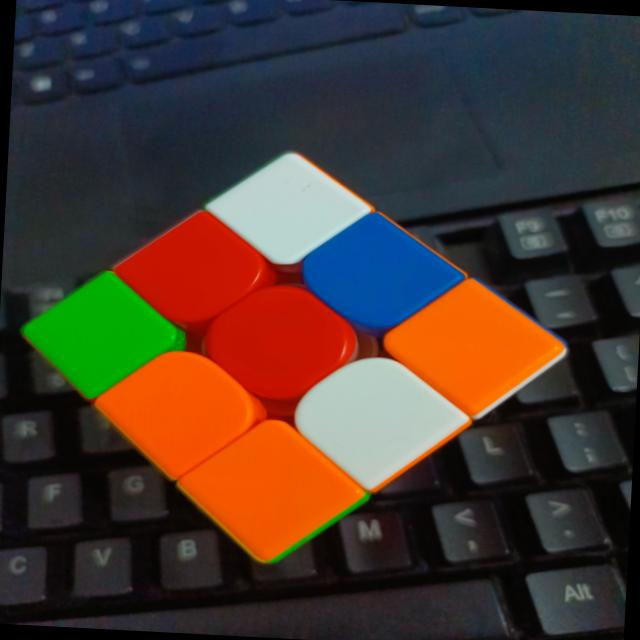rubik: (9, 136, 578, 578)
